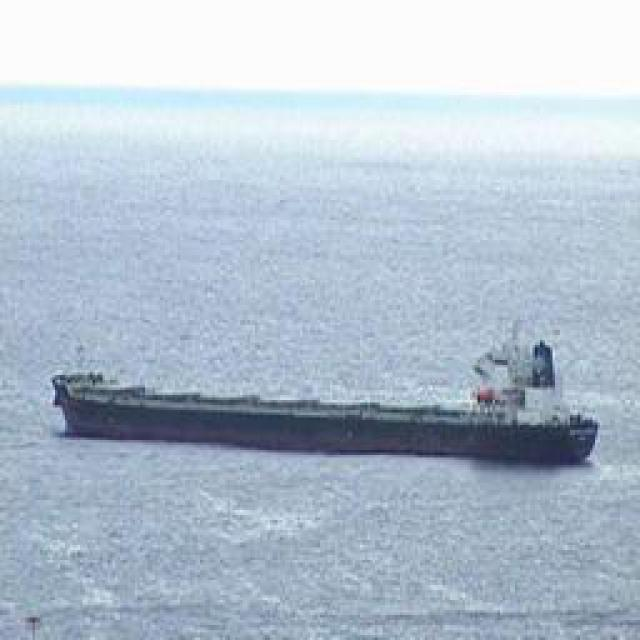Ship: (58, 366, 603, 459)
